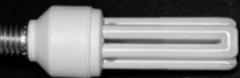lightbulb: (0, 5, 240, 78)
